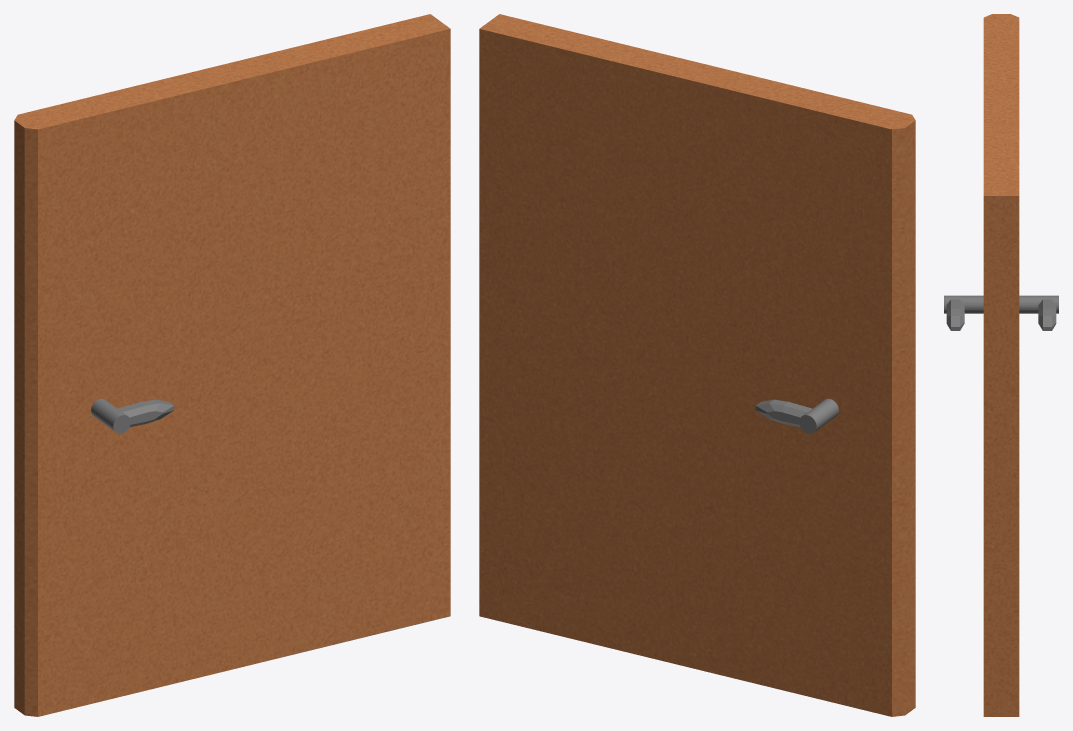
Rendered from terribledoor.fbx.
3 renders of one model, left to right at view 1: azimuth 30°, elevation 25°; view 2: azimuth 150°, elevation 25°; view 3: azimuth 270°, elevation 25°, orthographic. The views are drawn at different scales.
Parts seen in each view (by area): view 1: Cube; view 2: Cube; view 3: Cube.
Part boxes in pixels (x1,y1,x2,y2): Cube: (14,14,450,716); Cube: (479,14,915,716); Cube: (944,14,1058,716).
Size of the model in its own units: 150 by 200 by 40.
